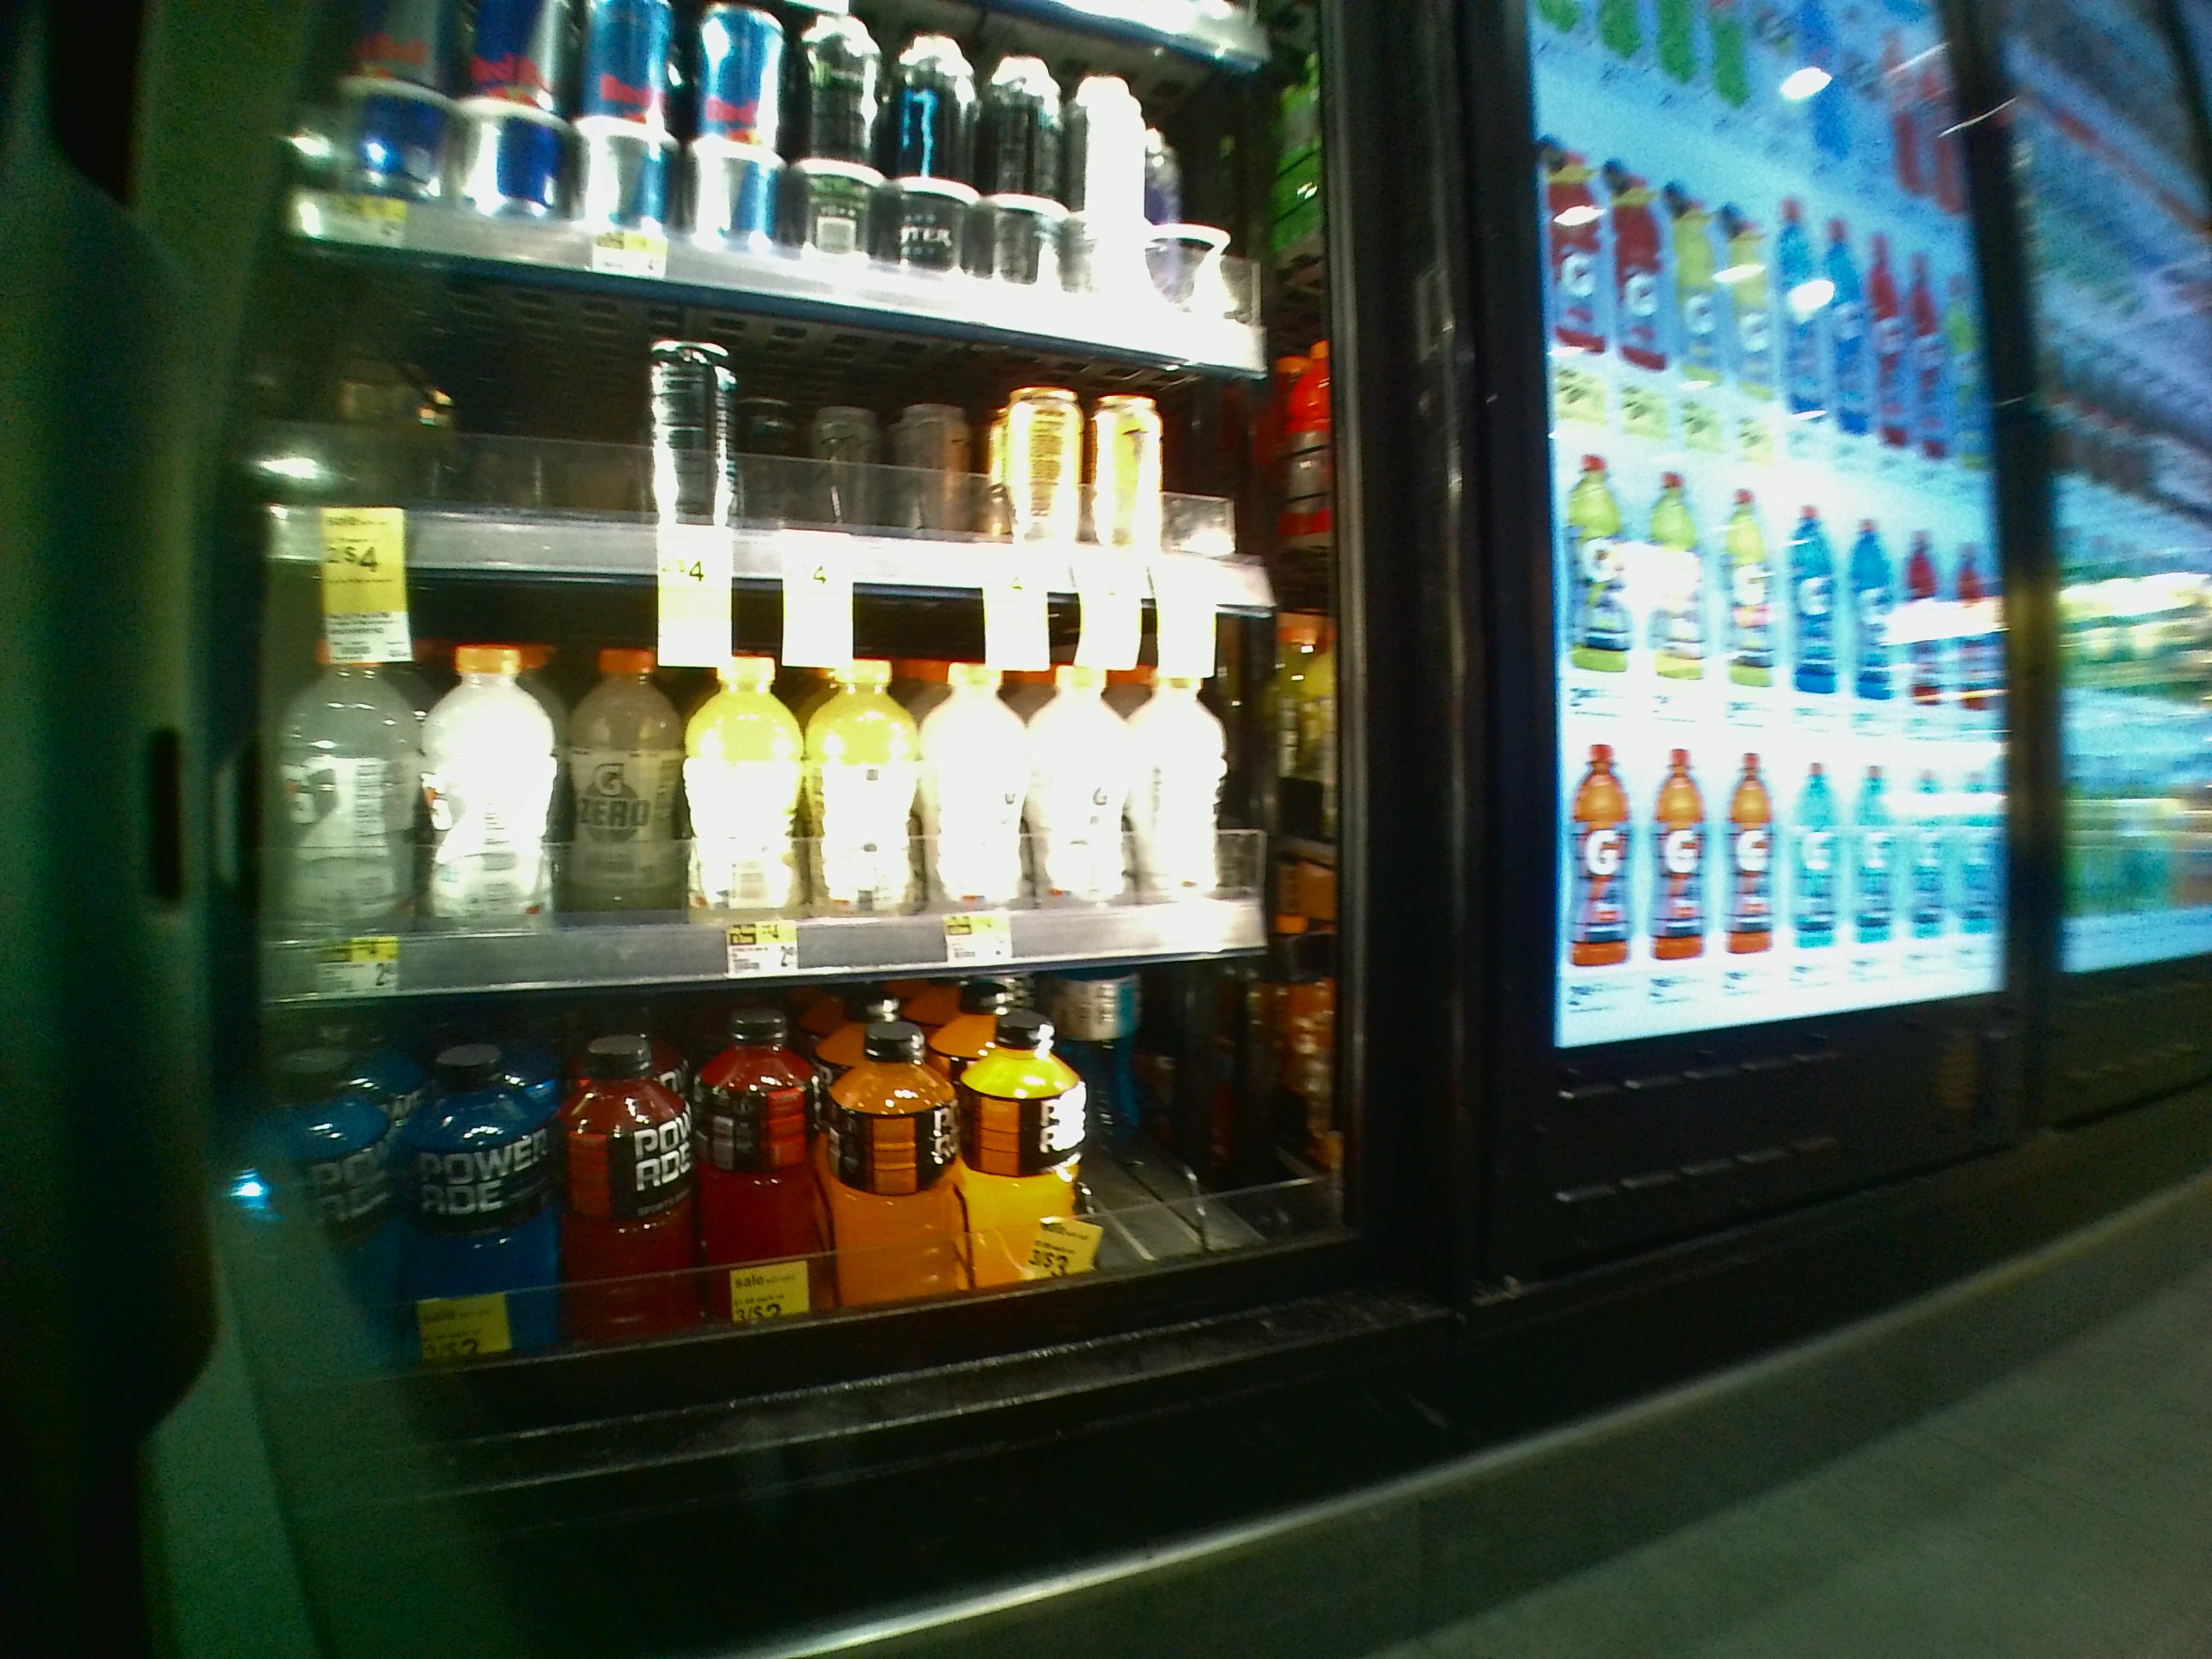shelf: (246, 566, 1348, 986)
